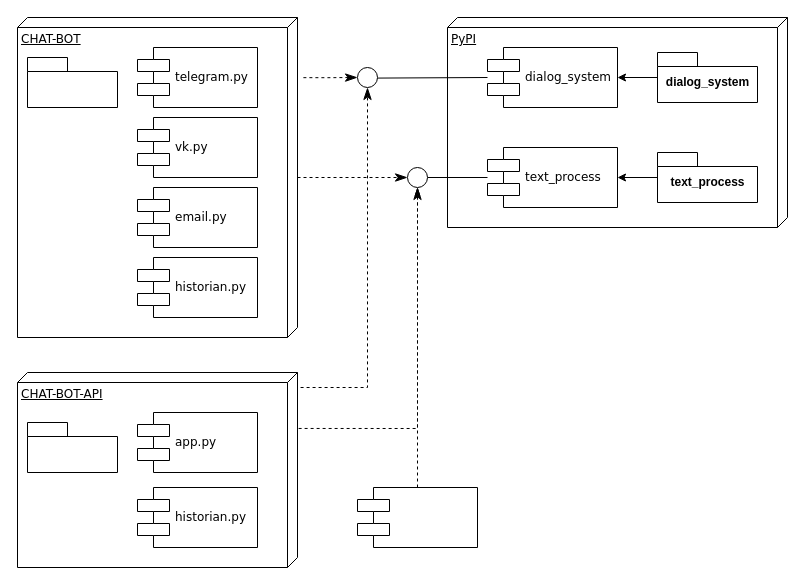
Image size: 805x585. Some labels were removed from this diagram. The shapes that lost their labels are listed below. From the top down, each one's centre as x and y in pixels, then its label:
At point 72,82: "chat_bot".
At point 72,447: "chat_bot_api".
At point 417,517: "МО разработка".
